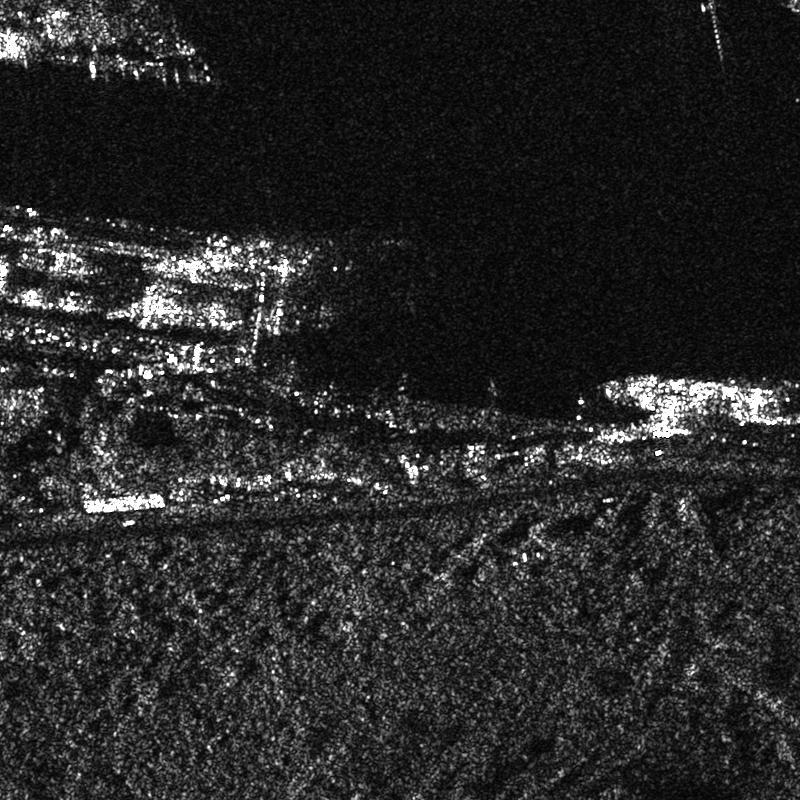ship: (603, 375, 781, 425), (128, 295, 242, 330), (151, 259, 253, 288), (17, 247, 102, 275), (12, 289, 101, 313)
